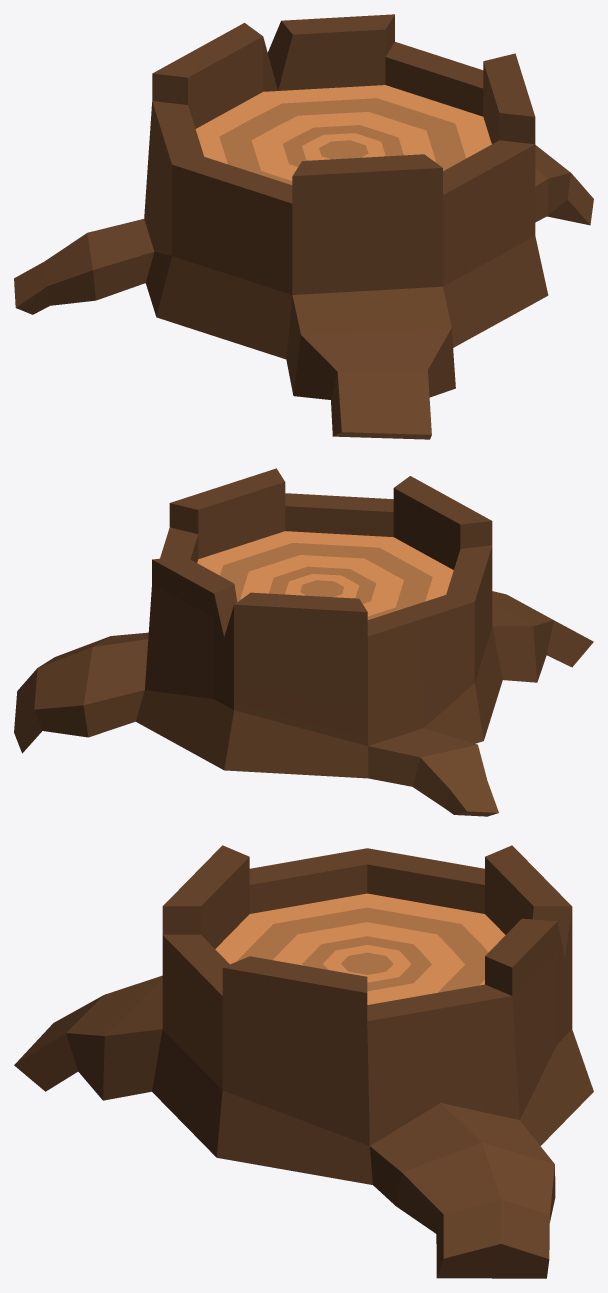
File: TreeStump2.glb
The picture shows the model from 3 angles, top to bottom: view 1: azimuth 30°, elevation 25°; view 2: azimuth 150°, elevation 25°; view 3: azimuth 270°, elevation 25°; orthographic projection. The views are drawn at different scales.
Visible parts, largest first — view 1: Tree Stump 2; view 2: Tree Stump 2; view 3: Tree Stump 2.
Part boxes in pixels (x1,y1,x2,y2): Tree Stump 2: (14, 14, 593, 439); Tree Stump 2: (14, 468, 593, 816); Tree Stump 2: (14, 845, 593, 1278).
Size of the model in its own units: 18.19 by 7.51 by 16.06.
